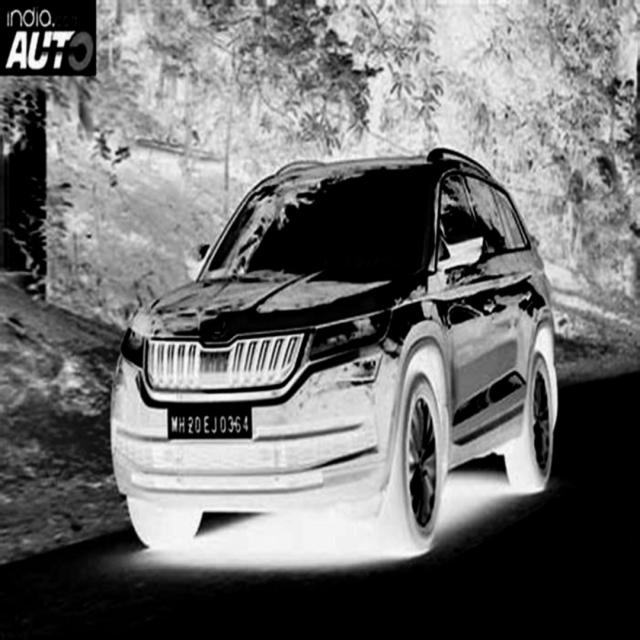Non_registered: (164, 409, 260, 440)
